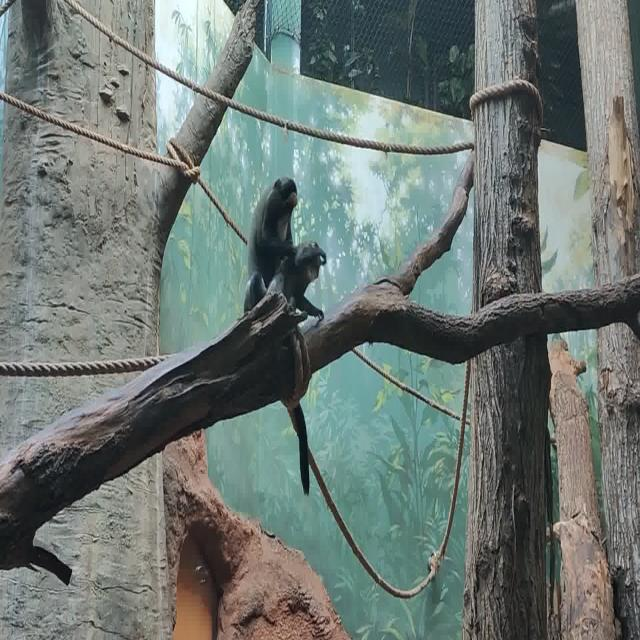monkey: (244, 176, 297, 312), (266, 240, 326, 322)
